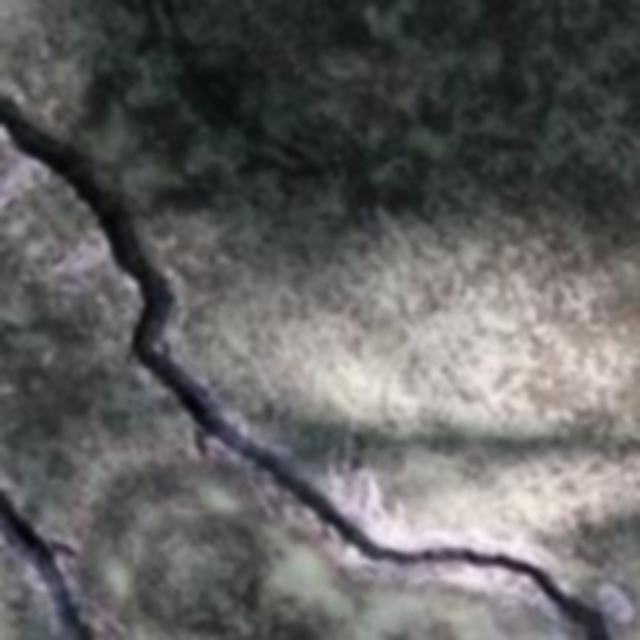SurfaceCrack: (0, 88, 342, 448), (218, 420, 640, 640), (0, 470, 94, 640)
